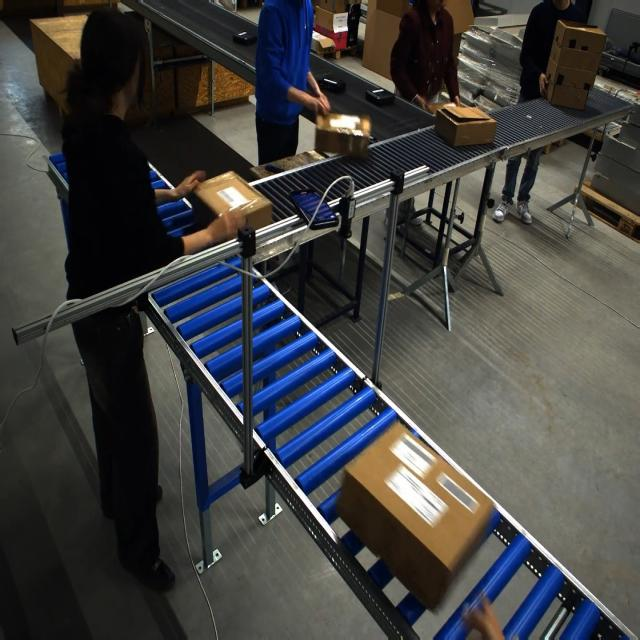box: (340, 427, 489, 607), (543, 20, 606, 109), (191, 171, 271, 235), (434, 104, 496, 148), (315, 112, 367, 159)
product: (368, 88, 396, 106), (319, 76, 345, 93), (232, 31, 257, 45)
